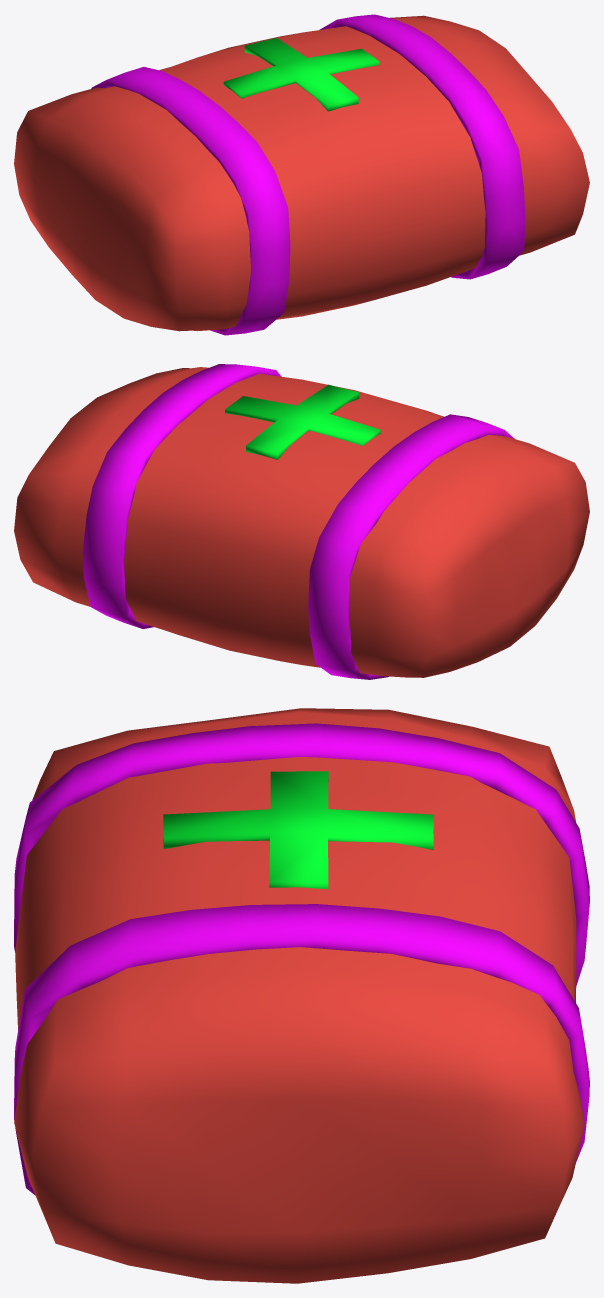
The model's file is medkit_low.fbx.
3 renders of one model, top to bottom at view 1: azimuth 30°, elevation 25°; view 2: azimuth 150°, elevation 25°; view 3: azimuth 270°, elevation 25°, orthographic. The views are drawn at different scales.
Parts seen in each view (by area): view 1: bandage_box_low, stripe_low, cross_low.001; view 2: bandage_box_low, stripe_low, cross_low.001; view 3: bandage_box_low, stripe_low, cross_low.001.
Part boxes in pixels (x1,y1,x2,y2): bandage_box_low: [14, 15, 589, 331]; stripe_low: [91, 14, 525, 335]; cross_low.001: [223, 38, 379, 111]; bandage_box_low: [14, 367, 589, 677]; stripe_low: [82, 364, 514, 679]; cross_low.001: [225, 384, 380, 459]; bandage_box_low: [14, 708, 584, 1283]; stripe_low: [14, 723, 589, 1195]; cross_low.001: [163, 771, 433, 889].
Size of the model in its own units: 216 by 100 by 154.
